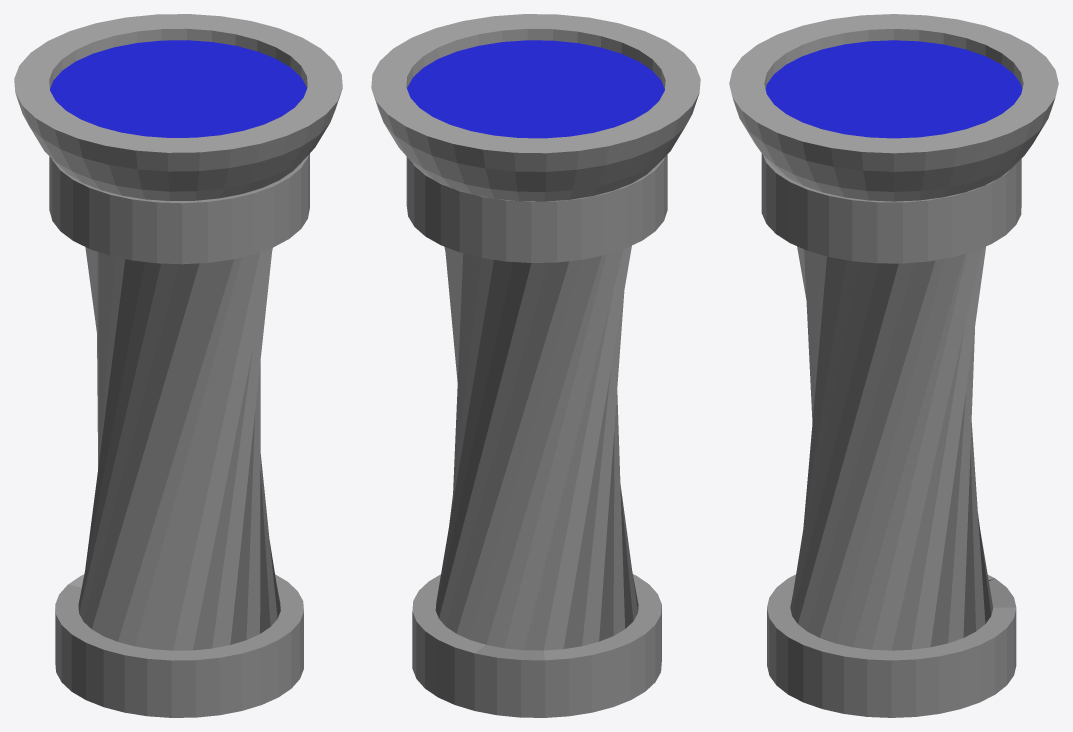
3 views of the same model, side by side, from view 1: azimuth 30°, elevation 25°; view 2: azimuth 150°, elevation 25°; view 3: azimuth 270°, elevation 25° (orthographic).
Parts seen in each view (by area): view 1: Cylinder, Sphere; view 2: Cylinder, Sphere; view 3: Cylinder, Sphere.
Boxes of the visible parts, box(x1,y1,x2,y2) form: Cylinder: box(49, 154, 309, 717); Sphere: box(14, 14, 342, 201); Cylinder: box(406, 154, 667, 717); Sphere: box(371, 14, 700, 201); Cylinder: box(761, 153, 1021, 717); Sphere: box(729, 14, 1058, 201).
Size of the model in its own units: 538 by 1066 by 538.
